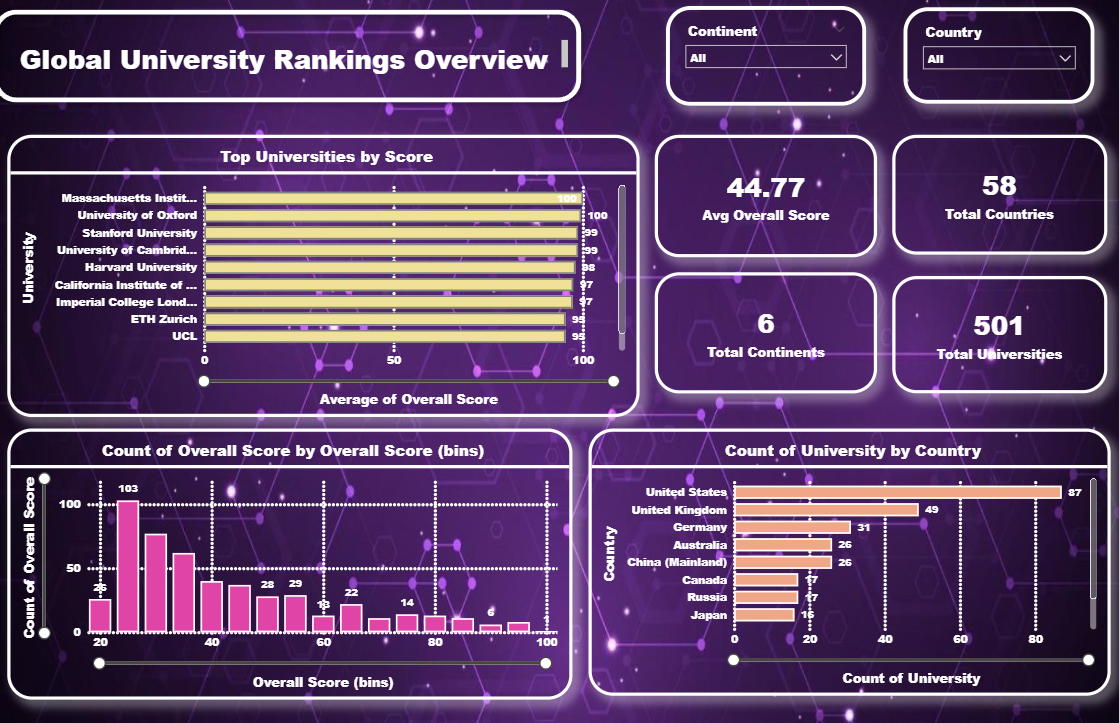

Layout of this report page (visuals, bound fields, positions):
{"tool":"powerbi","page":{"name":"Overview","canvas":[1400,900],"ordinal":0},"visuals":[{"type":"clusteredBarChart","title":"Top Universities by Score","fields":{"Y":["Avg(clean_university_data - clean_university_data xls.Overall Score)"],"Category":["clean_university_data - clean_university_data xls.University"]},"box":[26.1,176.4,776.1,346.6],"z":0},{"type":"clusteredBarChart","fields":{"Category":["clean_university_data - clean_university_data xls.Country"],"Y":["CountNonNull(clean_university_data - clean_university_data xls.University)"]},"box":[739.3,536.8,641.1,328.2],"z":1000},{"type":"clusteredColumnChart","title":"Distribution of Overall Scores ","fields":{"Y":["CountNonNull(clean_university_data - clean_university_data xls.Overall Score)"],"Category":["clean_university_data.Overall Score (bins)"]},"box":[26.1,536.8,693.3,332.8],"z":2000},{"type":"slicer","fields":{"Values":["clean_university_data - clean_university_data xls.Country"]},"box":[1125.8,19.9,234.7,118.1],"z":4000},{"type":"slicer","fields":{"Values":["clean_university_data - clean_university_data xls.Continent"]},"box":[834.4,18.4,245.4,122.7],"z":5000},{"type":"shape","box":[0,13.8,739.3,131.9],"z":6000},{"type":"cardVisual","fields":{"Data":["_Measures.Total Continents"]},"box":[820.6,345.1,273,148.8],"z":7000},{"type":"cardVisual","fields":{"Data":["_Measures.Total Countries"]},"box":[1112,176.4,263.8,147.2],"z":8000},{"type":"cardVisual","fields":{"Data":["_Measures.Total Universities"]},"box":[1112,349.7,263.8,144.2],"z":9000},{"type":"cardVisual","fields":{"Data":["_Measures.Avg Overall Score"]},"box":[820.6,176.4,273,150.3],"z":10000},{"type":"textbox","box":[26.1,55.2,693.3,55.2],"z":11000}]}

Visuals, with their boxes in screenshot pixels (x1, y1, x2, y2), scaled from the page's 1400x900 canvas onto the 1119x723 screenshot:
"Top Universities by Score" clusteredBarChart: region(21, 142, 641, 420)
clusteredBarChart - clean_university_data - clean_university_data xls.Country x CountNonNull(clean_university_data - clean_university_data xls.University): region(591, 431, 1103, 695)
"Distribution of Overall Scores " clusteredColumnChart: region(21, 431, 575, 699)
slicer - clean_university_data - clean_university_data xls.Country: region(900, 16, 1087, 111)
slicer - clean_university_data - clean_university_data xls.Continent: region(667, 15, 863, 113)
shape: region(0, 11, 591, 117)
cardVisual - _Measures.Total Continents: region(656, 277, 874, 397)
cardVisual - _Measures.Total Countries: region(889, 142, 1100, 260)
cardVisual - _Measures.Total Universities: region(889, 281, 1100, 397)
cardVisual - _Measures.Avg Overall Score: region(656, 142, 874, 262)
textbox: region(21, 44, 575, 89)
